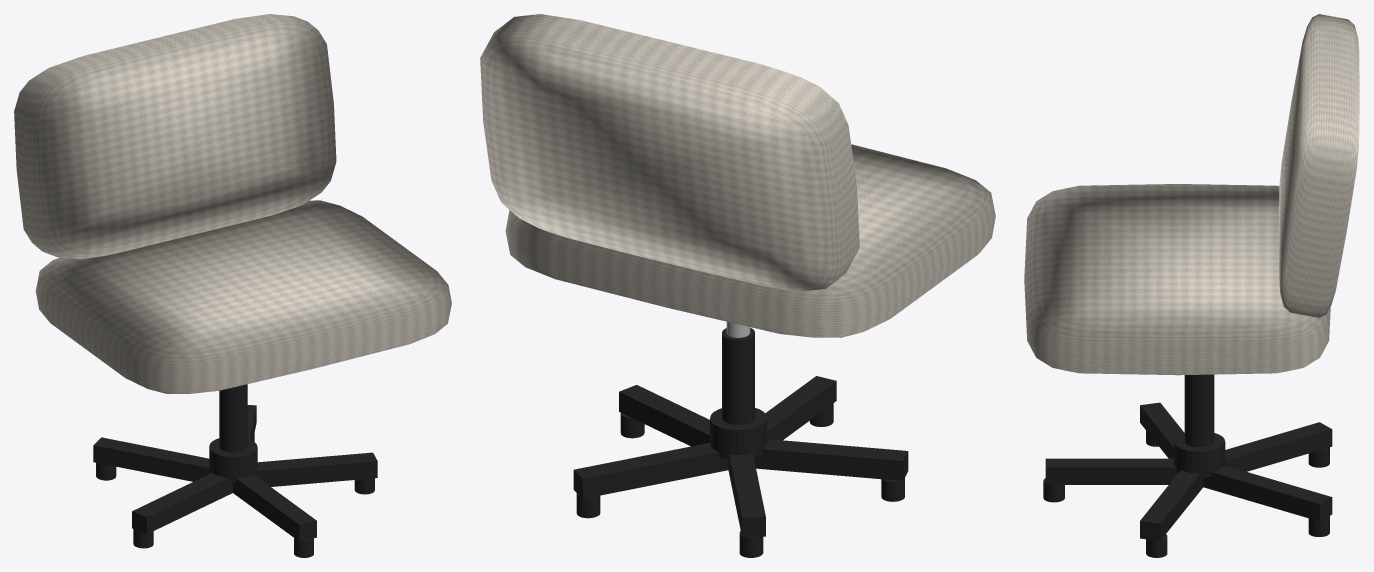
3 views of the same model, side by side, from view 1: azimuth 30°, elevation 25°; view 2: azimuth 150°, elevation 25°; view 3: azimuth 270°, elevation 25° (orthographic). The views are drawn at different scales.
Visible parts, largest first — view 1: 2 backrest, 1 seat, 10 base_spoke_2, 12 base_spoke_4, 13 base_spoke_5, 9 base_spoke_1, 7 gas_lift_lower, 8 base_hub; view 2: 2 backrest, 1 seat, 11 base_spoke_3, 13 base_spoke_5, 10 base_spoke_2, 7 gas_lift_lower, 9 base_spoke_1, 12 base_spoke_4, 8 base_hub; view 3: 1 seat, 2 backrest, 9 base_spoke_1, 11 base_spoke_3, 12 base_spoke_4, 10 base_spoke_2, 7 gas_lift_lower, 8 base_hub, 13 base_spoke_5.
Part boxes in pixels (x1,y1,x2,y2): 2 backrest: (14, 14, 336, 259); 1 seat: (35, 200, 451, 393); 10 base_spoke_2: (256, 452, 377, 486); 12 base_spoke_4: (93, 437, 209, 481); 13 base_spoke_5: (132, 473, 232, 533); 9 base_spoke_1: (233, 474, 316, 541); 7 gas_lift_lower: (219, 384, 247, 452); 8 base_hub: (209, 438, 257, 482); 2 backrest: (480, 14, 859, 291); 1 seat: (505, 144, 995, 337); 11 base_spoke_3: (573, 443, 728, 498); 13 base_spoke_5: (754, 439, 908, 480); 10 base_spoke_2: (619, 385, 709, 446); 7 gas_lift_lower: (722, 328, 754, 424); 9 base_spoke_1: (765, 376, 836, 440); 12 base_spoke_4: (728, 453, 765, 537); 8 base_hub: (710, 408, 766, 459); 1 seat: (1024, 184, 1330, 375); 2 backrest: (1278, 14, 1359, 317); 9 base_spoke_1: (1045, 458, 1177, 484); 11 base_spoke_3: (1203, 465, 1332, 521); 12 base_spoke_4: (1225, 422, 1332, 471); 10 base_spoke_2: (1140, 470, 1203, 540); 7 gas_lift_lower: (1184, 374, 1214, 447); 8 base_hub: (1174, 433, 1225, 477); 13 base_spoke_5: (1140, 402, 1184, 458).
Size of the model in its own units: 0.8 by 1 by 0.71.
4 materials, 1 textured.
